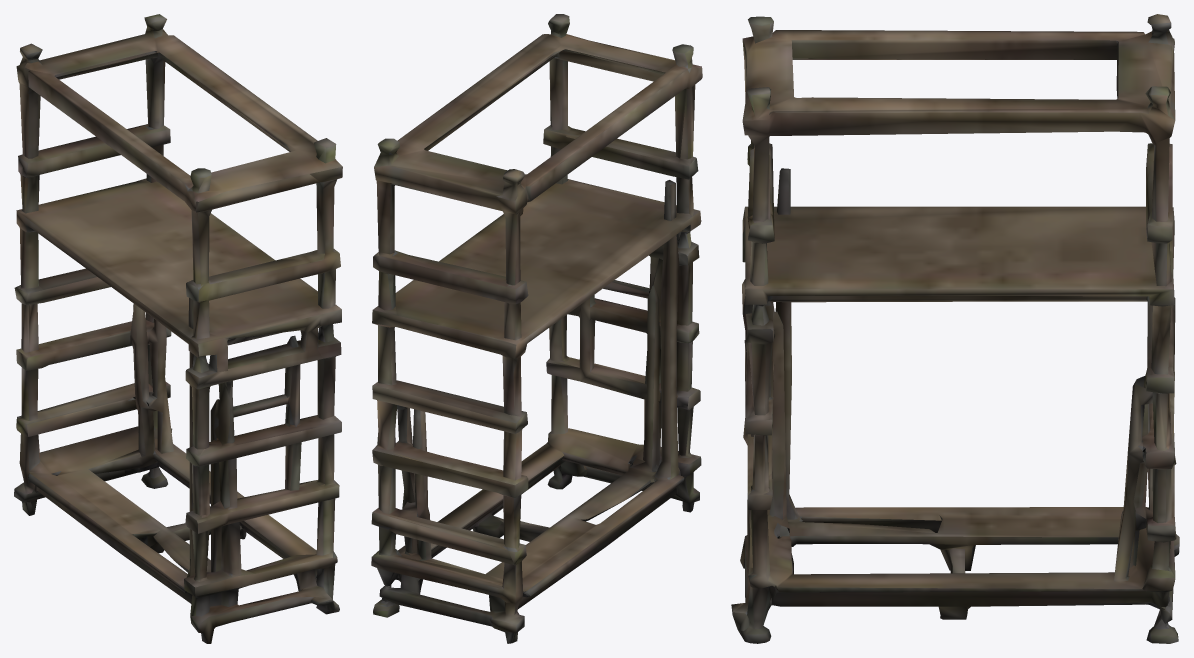
The model's file is simple-wood-scaffold-tower-v001.glb.
3 renders of one model, left to right at view 1: azimuth 30°, elevation 25°; view 2: azimuth 150°, elevation 25°; view 3: azimuth 270°, elevation 25°, orthographic. The views are drawn at different scales.
Parts seen in each view (by area): view 1: simple-wood-scaffold-tower; view 2: simple-wood-scaffold-tower; view 3: simple-wood-scaffold-tower.
Boxes of the visible parts, box(x1,y1,x2,y2) form: simple-wood-scaffold-tower: box(14, 14, 342, 643); simple-wood-scaffold-tower: box(371, 14, 702, 643); simple-wood-scaffold-tower: box(731, 14, 1179, 643).
Size of the model in its own units: 0.821 by 2.49 by 1.83.
Materials: 1 (1 with a texture image).
